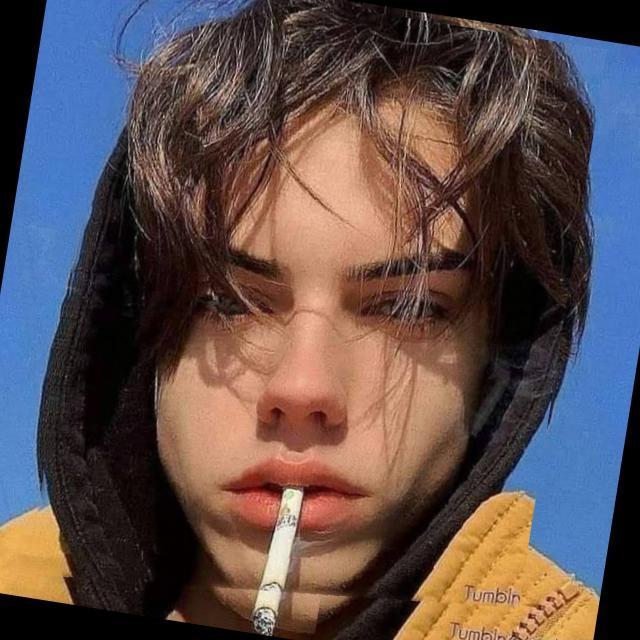cigarette: (215, 475, 337, 640)
